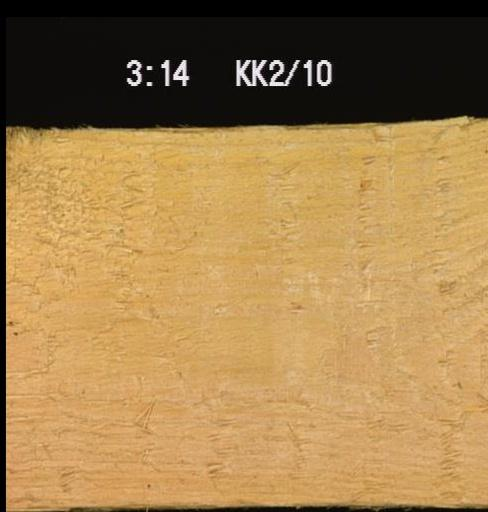small_knot: (5, 319, 27, 337)
